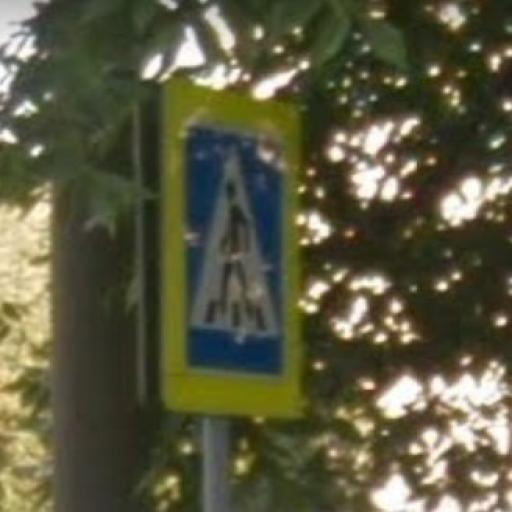traffic_sign: (152, 75, 310, 423)
